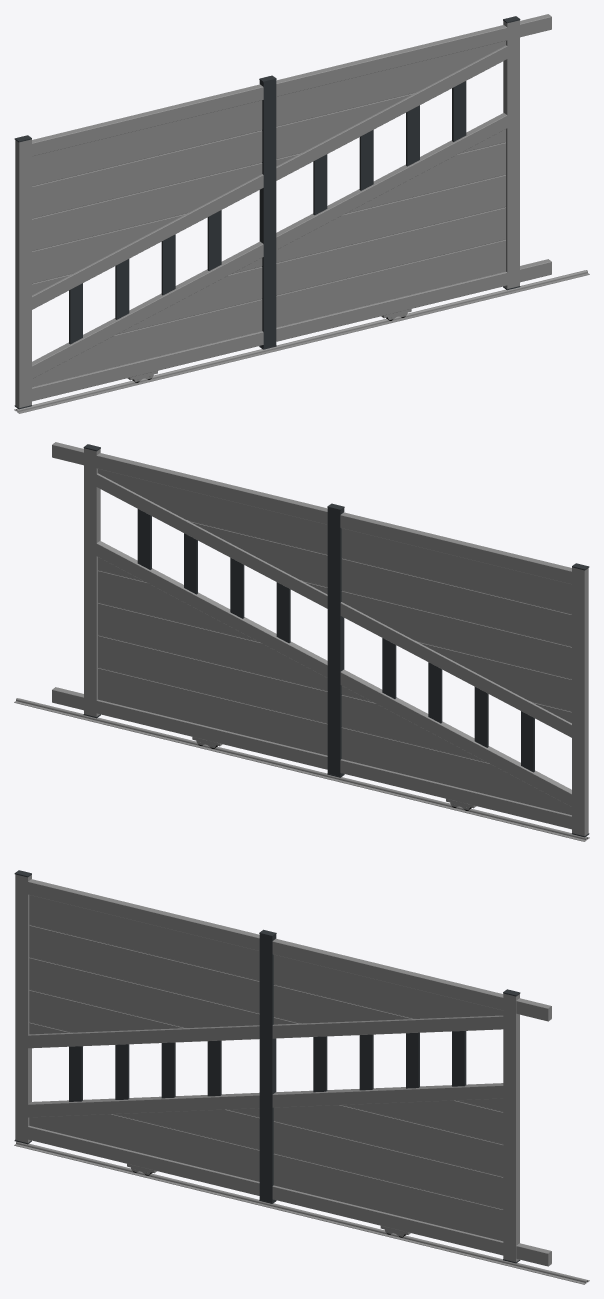
The picture shows the model from 3 angles, top to bottom: view 1: azimuth 30°, elevation 25°; view 2: azimuth 150°, elevation 25°; view 3: azimuth 330°, elevation 25°; orthographic projection.
Parts seen in each view (by area): view 1: Line043, Line034, Line042, Line035, Rectangle064, Line045, Rectangle065, Line041, Line155, Line036, Pilar, Box2402 (+12 smaller); view 2: Line043, Line034, Line042, Line035, Rectangle064, Line045, Rectangle065, Line041, Line155, Line036, Pilar, Box2402 (+12 smaller); view 3: Line043, Line034, Line042, Line035, Rectangle064, Rectangle065, Line045, Line041, Line036, Line155, Pilar001, Box2402 (+12 smaller).
Part boxes in pixels (bbox=[...]): Line043: bbox=[32, 240, 505, 387]; Line034: bbox=[32, 41, 505, 186]; Line042: bbox=[116, 207, 505, 334]; Line035: bbox=[32, 93, 413, 218]; Rectangle064: bbox=[32, 14, 551, 156]; Line045: bbox=[32, 113, 507, 378]; Rectangle065: bbox=[32, 259, 551, 401]; Line041: bbox=[230, 175, 505, 274]; Line155: bbox=[32, 45, 507, 309]; Line036: bbox=[32, 154, 299, 251]; Pilar: bbox=[15, 139, 31, 407]; Box2402: bbox=[259, 80, 276, 348]; Line043: bbox=[98, 668, 571, 815]; Line034: bbox=[98, 469, 571, 614]; Line042: bbox=[98, 635, 487, 762]; Line035: bbox=[190, 521, 571, 646]; Rectangle064: bbox=[52, 442, 571, 584]; Line045: bbox=[96, 541, 571, 806]; Rectangle065: bbox=[52, 687, 571, 829]; Line041: bbox=[98, 603, 373, 702]; Line155: bbox=[96, 473, 571, 737]; Line036: bbox=[304, 582, 571, 679]; Pilar: bbox=[572, 567, 588, 835]; Box2402: bbox=[327, 508, 344, 776]; Line043: bbox=[29, 1114, 503, 1241]; Line034: bbox=[29, 895, 503, 1018]; Line042: bbox=[113, 1109, 503, 1209]; Line035: bbox=[29, 925, 412, 1023]; Rectangle064: bbox=[28, 879, 551, 1021]; Rectangle065: bbox=[28, 1125, 551, 1266]; Line045: bbox=[28, 1083, 503, 1117]; Line041: bbox=[227, 1105, 503, 1176]; Line036: bbox=[29, 957, 298, 1027]; Line155: bbox=[28, 1015, 503, 1048]; Pilar001: bbox=[503, 993, 519, 1262]; Box2402: bbox=[259, 934, 276, 1202].
Bounding box in the file's own units: 3600 × 1640 × 60.02.
5 materials, 2 textured.
